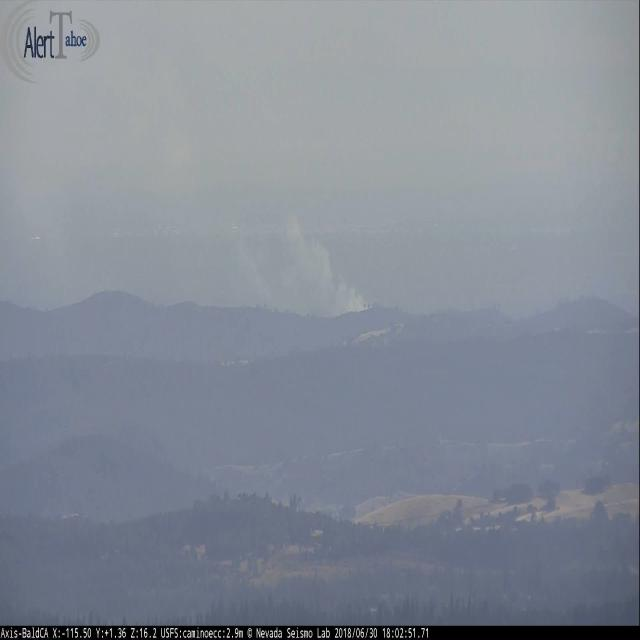smoke: (274, 217, 371, 314)
